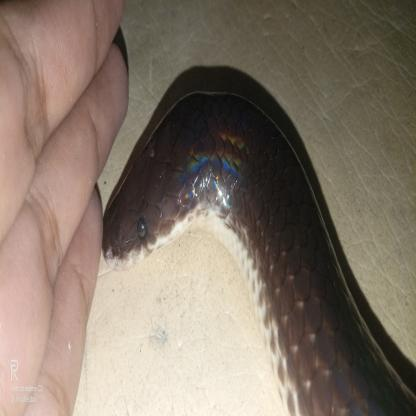Snake: (101, 55, 416, 415)
